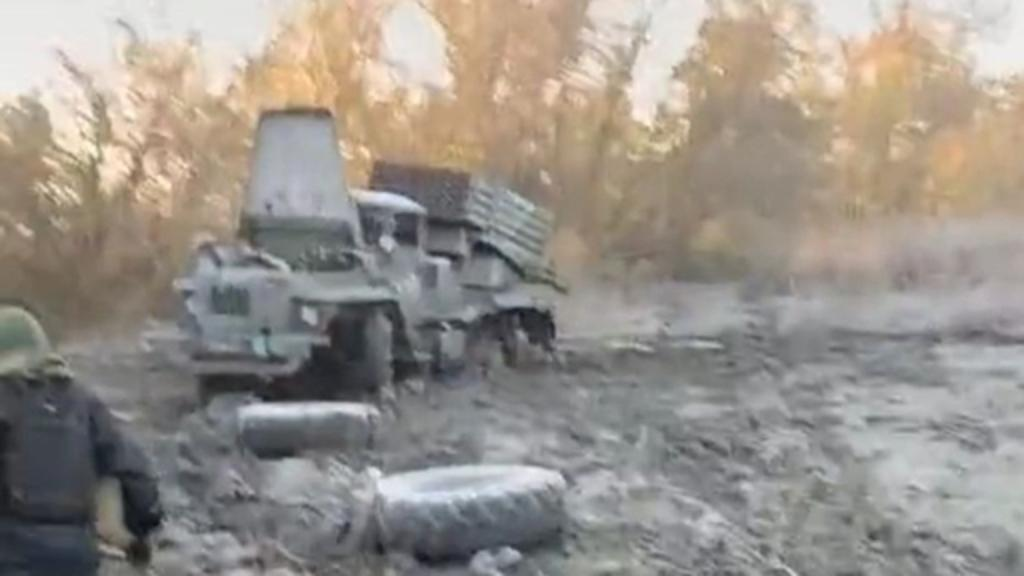MLRS: (172, 106, 566, 398)
